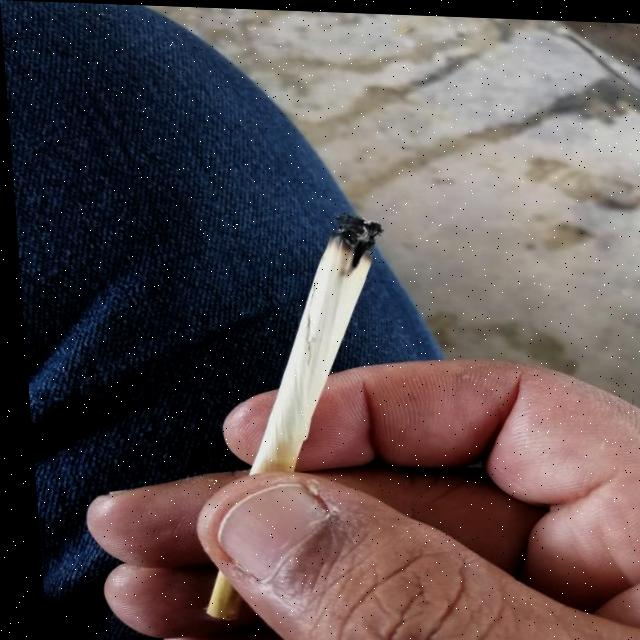cigarette: (177, 208, 401, 625)
